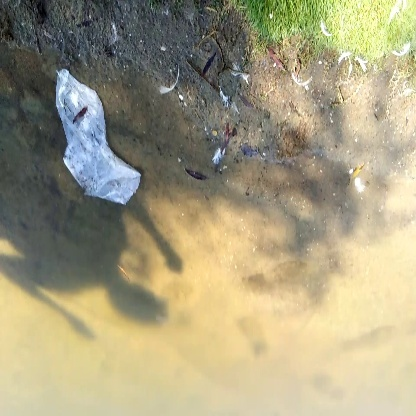plastic-bag: (52, 68, 146, 208)
